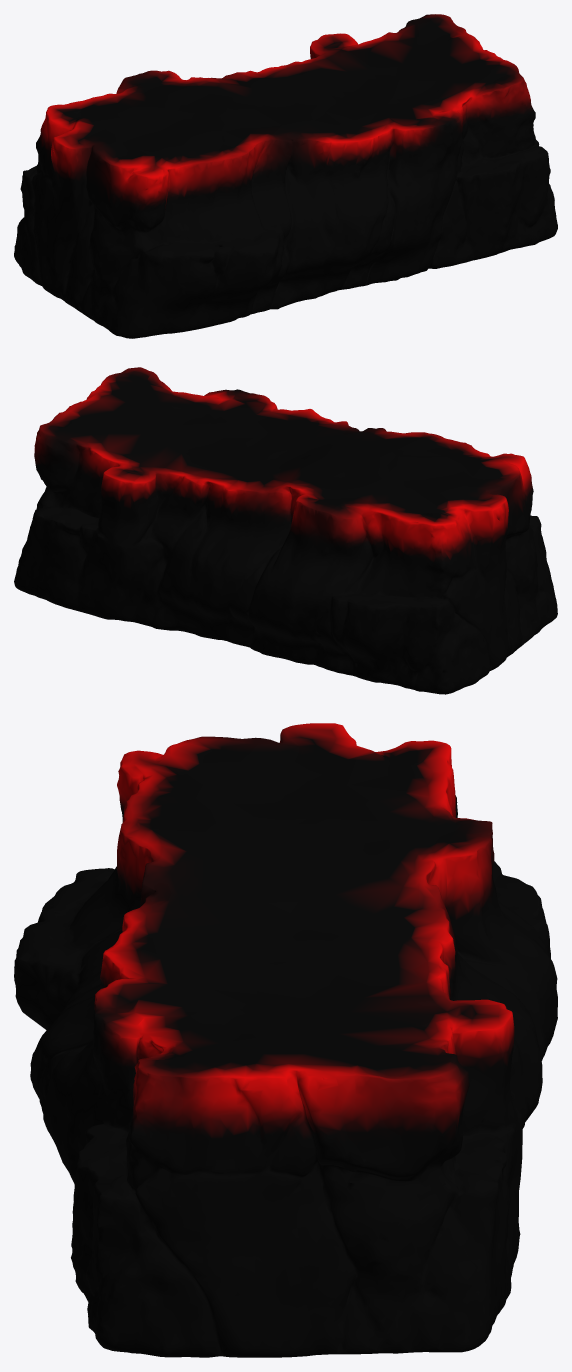
File: OuterBank_08_WeatheredLedge.fbx
3 views of the same model, one above another, from view 1: azimuth 30°, elevation 25°; view 2: azimuth 150°, elevation 25°; view 3: azimuth 270°, elevation 25° (orthographic). The views are drawn at different scales.
Parts seen in each view (by area): view 1: OuterBank_08_WeatheredLedge; view 2: OuterBank_08_WeatheredLedge; view 3: OuterBank_08_WeatheredLedge.
Part boxes in pixels (box(x1,y1,x2,y2)): OuterBank_08_WeatheredLedge: box(14, 14, 557, 338); OuterBank_08_WeatheredLedge: box(14, 367, 557, 694); OuterBank_08_WeatheredLedge: box(14, 723, 557, 1357).
Bounding box in the file's own units: 11000 × 3595 × 6635.
